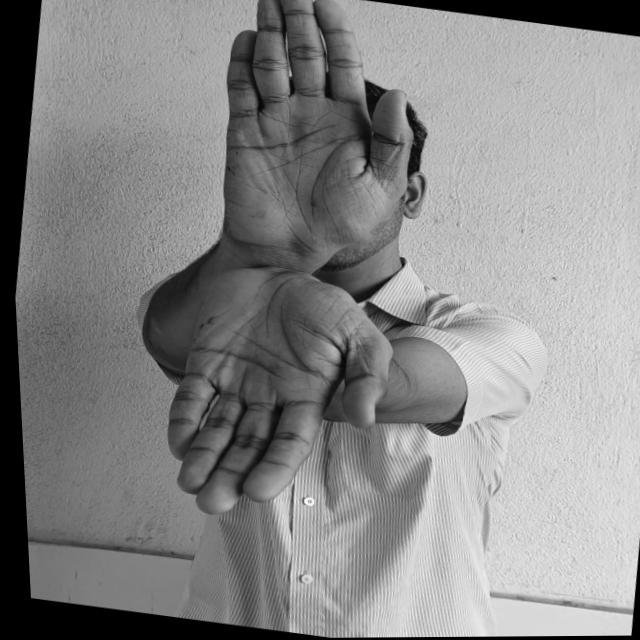Morning: (130, 0, 446, 541)
